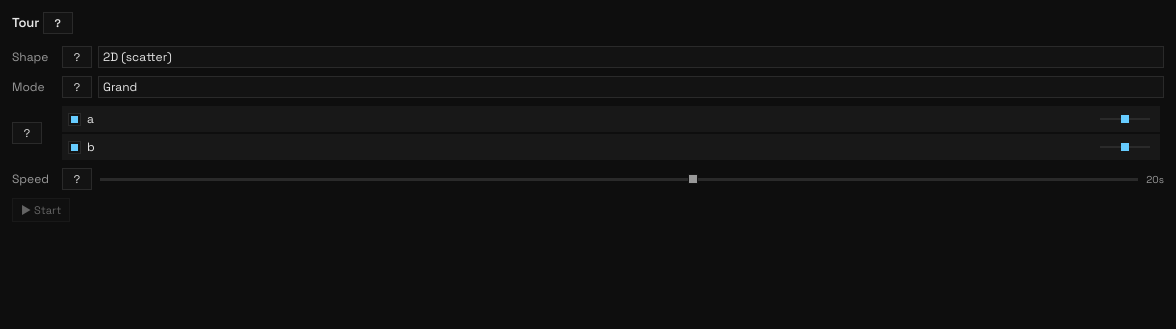
Test: TourPanel › LDA class source: paint disabled without groups, categorical variable available
Select "Projection pursuit" in the dropdown named "tour mode" at [631, 87], box [98,76,1164,98]
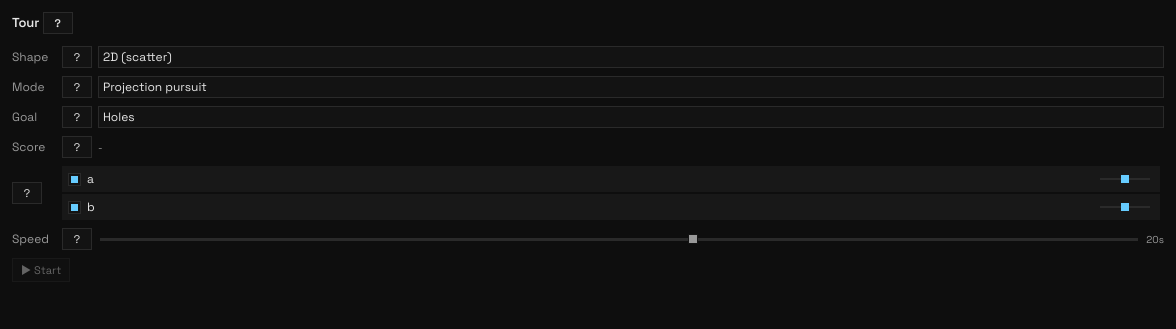
Check: the dropdown named "projection pursuit goal" is shown
Select "LDA" in the dropdown named "projection pursuit goal" at [631, 117], box [98,106,1164,128]
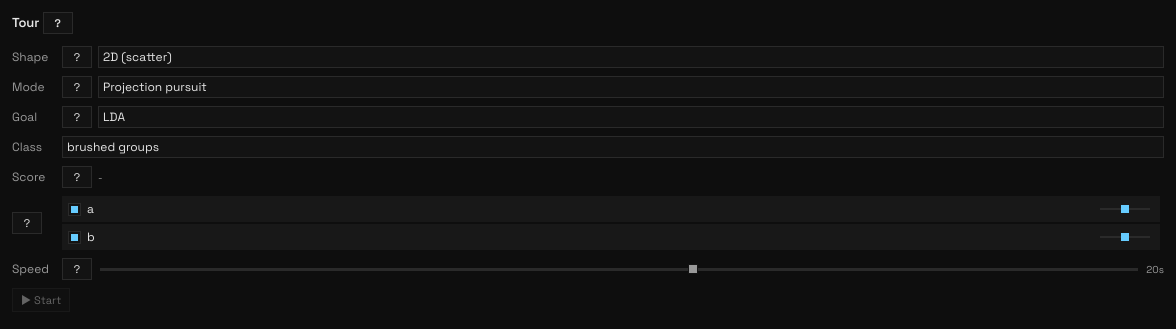
Check: the dropdown named "lda class source" shows "brushed groups", box [62,136,1164,158]
